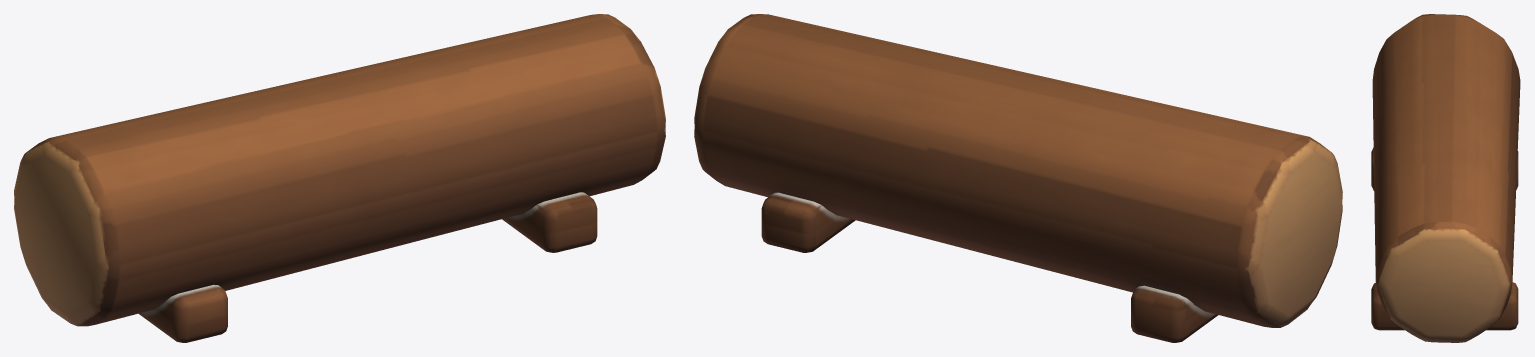
File: log_seat.glb
The picture shows the model from 3 angles, left to right: view 1: azimuth 30°, elevation 25°; view 2: azimuth 150°, elevation 25°; view 3: azimuth 270°, elevation 25°; orthographic projection. The views are drawn at different scales.
Visible parts, largest first — view 1: log_seat; view 2: log_seat; view 3: log_seat.
Boxes of the visible parts, left/top/right/bottom form: log_seat: left=14, top=14, right=665, bottom=342; log_seat: left=694, top=14, right=1342, bottom=342; log_seat: left=1371, top=14, right=1520, bottom=342.
Size of the model in its own units: 1.3 by 0.3993 by 0.3855.
Materials: 1 (1 with a texture image).
